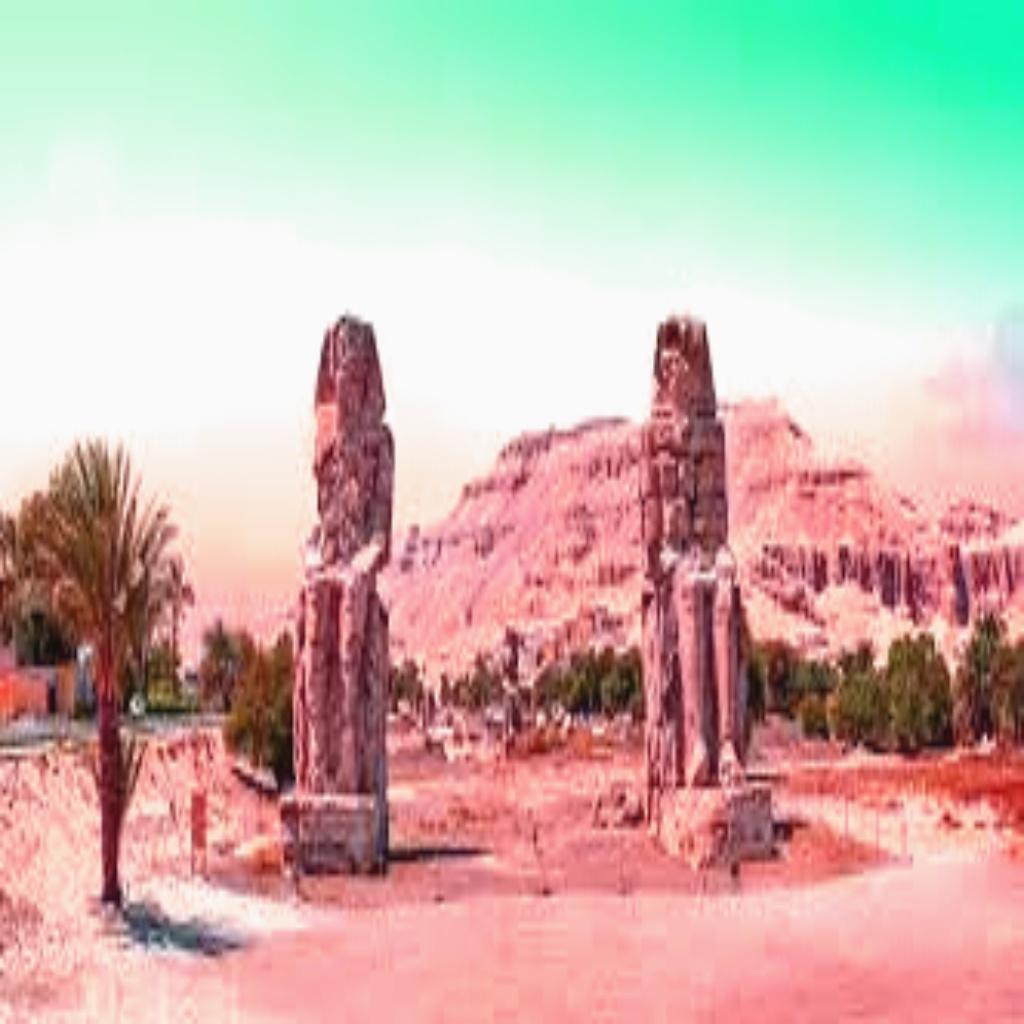Colossoi of Memnon: (278, 303, 398, 876), (632, 296, 756, 836)
